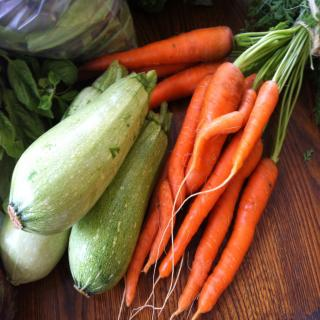Carrot: (122, 58, 286, 320), (186, 66, 244, 198), (83, 24, 237, 72), (149, 63, 215, 103), (132, 61, 197, 79)
